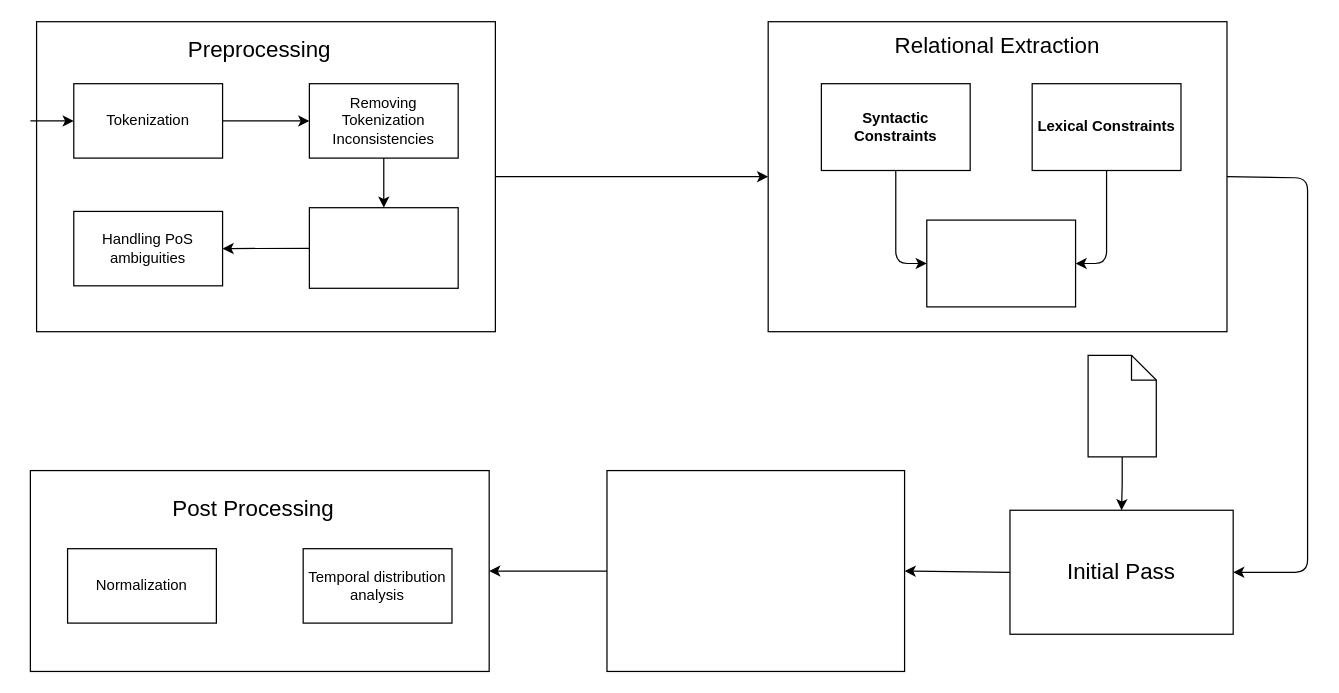
This 1339x693 diagram has some shape labels left out. Here are the shapes that lost their labels. From the top down, the centre of each, then its label:
At point 383,247: "PoS Tagging".
At point 1001,263: "High Frequency Pattern Templates".
At point 1121,405: "Corpus".
At point 755,570: "Frequency-based Iterative Improvement".
